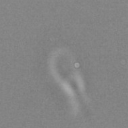abnormal: (70, 83, 108, 128)
